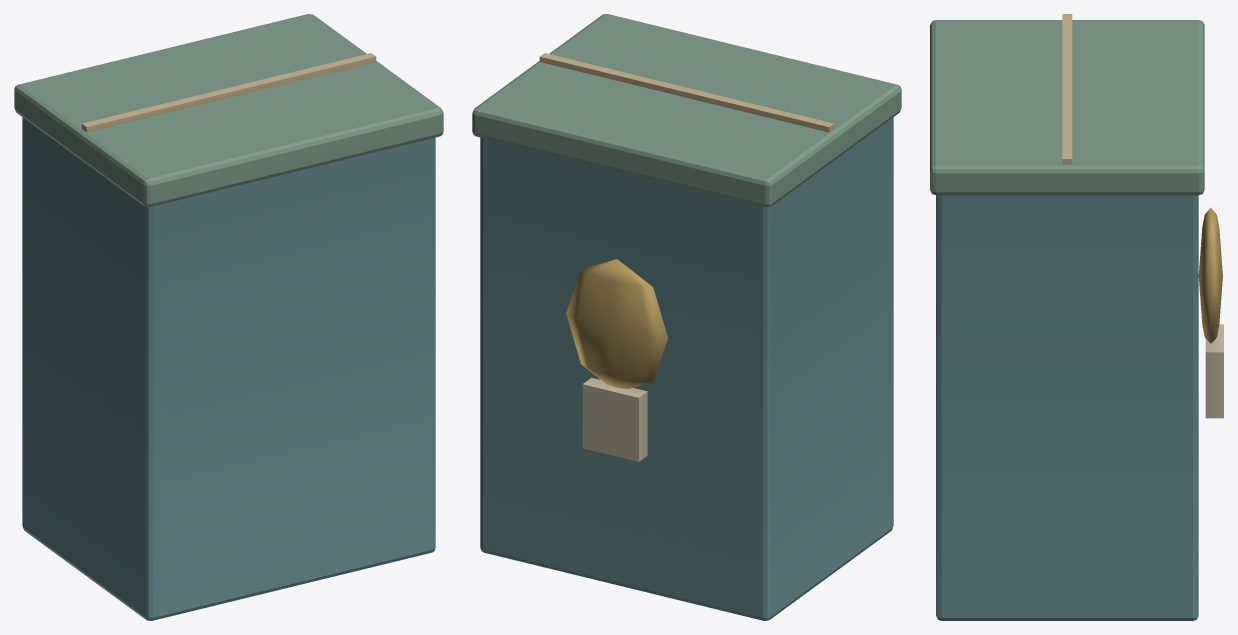
Rendered from bulb.glb.
3 views of the same model, side by side, from view 1: azimuth 30°, elevation 25°; view 2: azimuth 150°, elevation 25°; view 3: azimuth 270°, elevation 25° (orthographic). The views are drawn at different scales.
Bounding box in the file's own units: 0.176 × 0.2535 × 0.1455.
